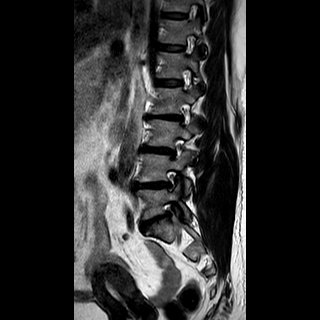RFS0: (161, 131, 187, 164), (172, 97, 195, 131), (174, 65, 199, 96)
RFS1: (157, 165, 184, 195)
